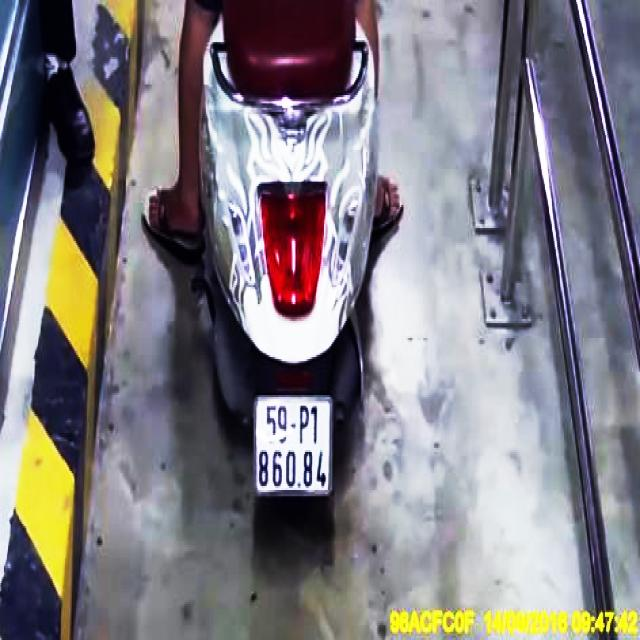license_plate: (258, 398, 333, 495)
